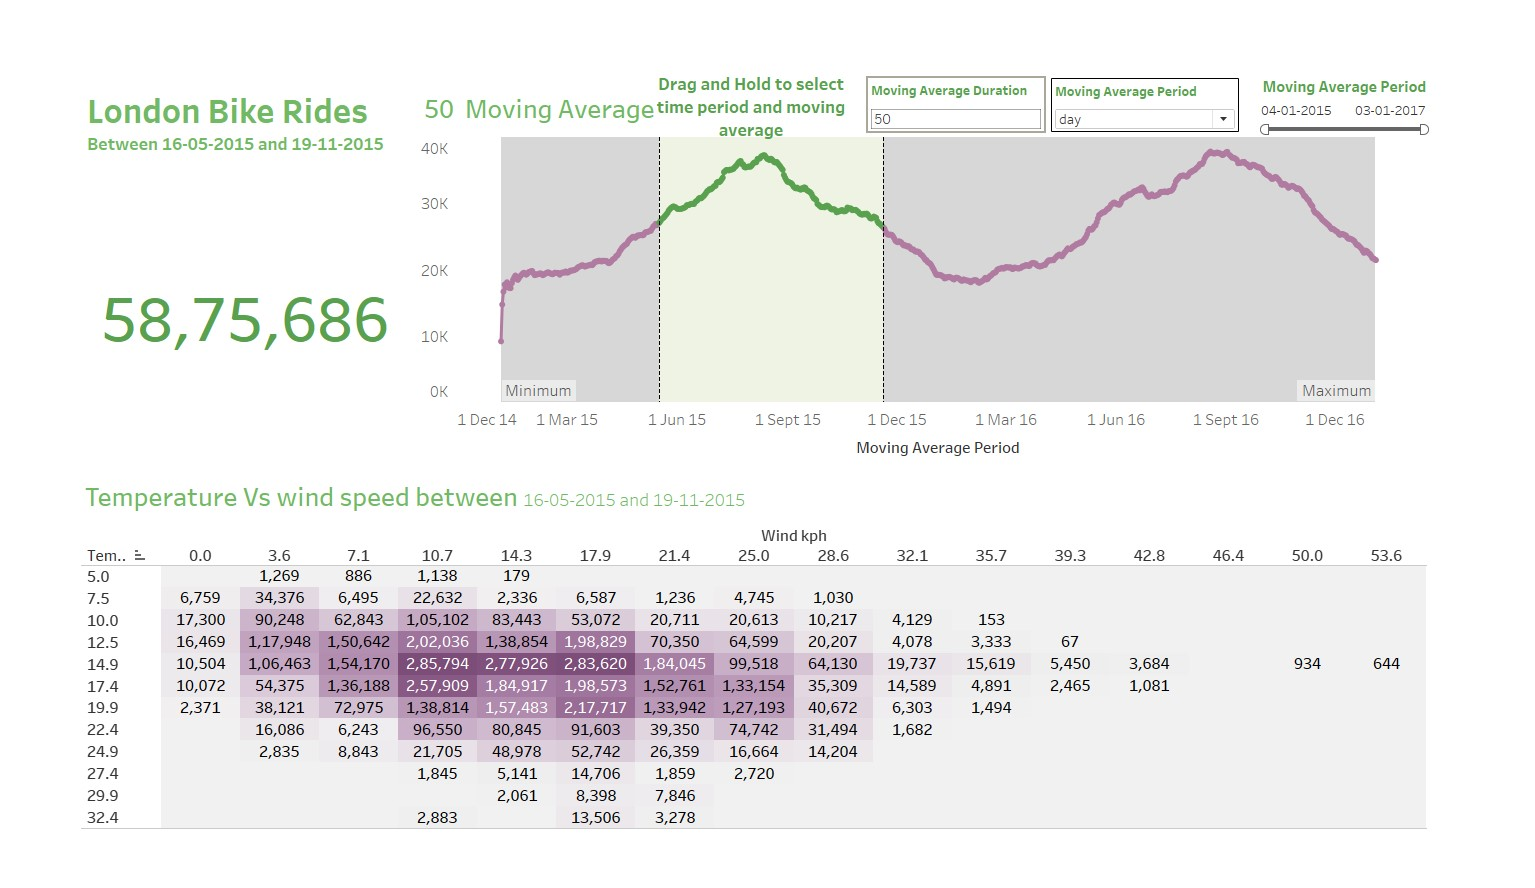

The page's visual inventory and layout, read from the dashboard file:
{"tool":"tableau","page":{"name":"Dashboard 1","canvas":[1366,768],"ordinal":0},"visuals":[{"type":"parameter","param":"[Parameters].[Parameter 2]","box":[795,5,180,57]},{"type":"filter","title":"Moving Average","param":"[federated.0hxy6261gfx1dc13fv22s0brkqh2].[none:Calculation_814025675233157120:qk","box":[1185,5,177,71]},{"type":"parameter","param":"[Parameters].[Parameter 1]","box":[980,7,188,54]},{"type":"worksheet","title":"Sum of Rides","mark":"Automatic","box":[8,8,333,394]},{"type":"worksheet","title":"Moving Average","mark":"Automatic","rows":["Calculation1"],"cols":["Calculation_814025675233157120"],"box":[341,8,1017,394]},{"type":"worksheet","title":"HeatMap","mark":"Square","rows":["temp real C (bin)"],"cols":["Wind Speed Kph (bin)"],"box":[8,402,1350,358]}]}

Visuals, with their boxes in screenshot pixels (x1, y1, x2, y2), scaled from the page's 1366x768 canvas onto the 1535x888 screenshot:
parameter: 893 6 1096 72
"Moving Average" filter: 1332 6 1531 88
parameter: 1101 8 1313 71
"Sum of Rides" worksheet: 9 9 383 465
"Moving Average" worksheet: 383 9 1526 465
"HeatMap" worksheet (Square marks): 9 465 1526 879
